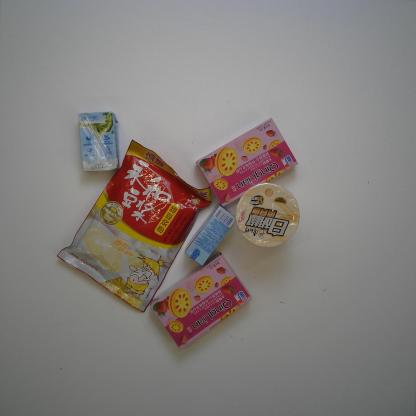Dessert: (148, 251, 253, 351), (194, 116, 298, 207)
Instant Drink: (56, 139, 212, 313)
Instant Noodles: (235, 182, 300, 248)
Milk: (184, 204, 236, 267), (78, 110, 120, 172)
